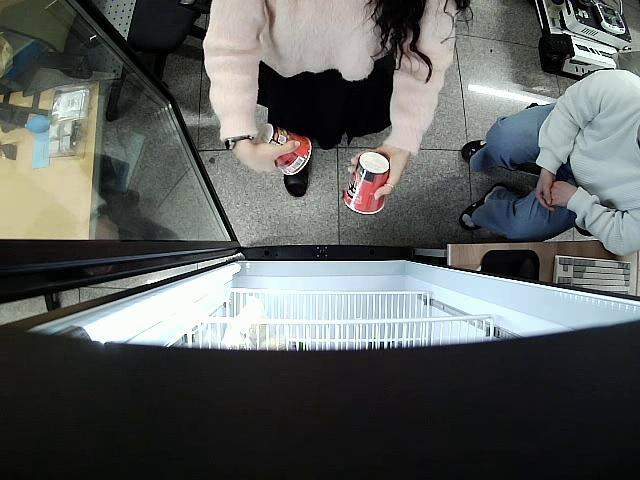02_shinRamen_S: (257, 123, 312, 176), (342, 152, 388, 214)
